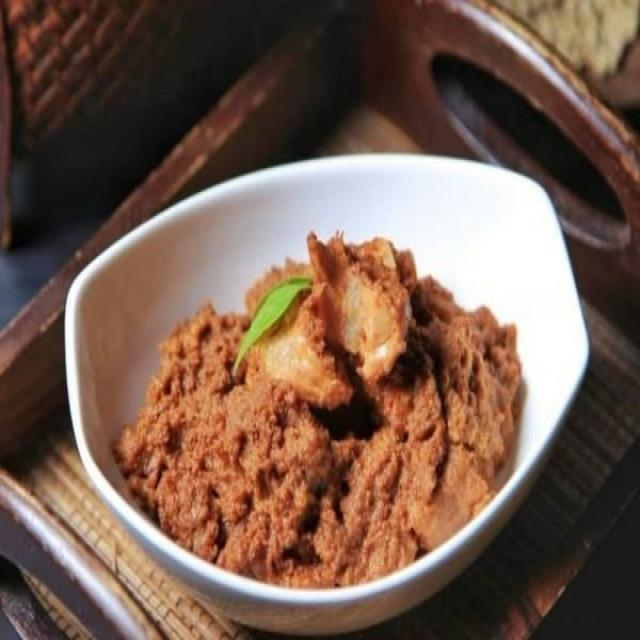Rendang: (116, 255, 534, 570)
